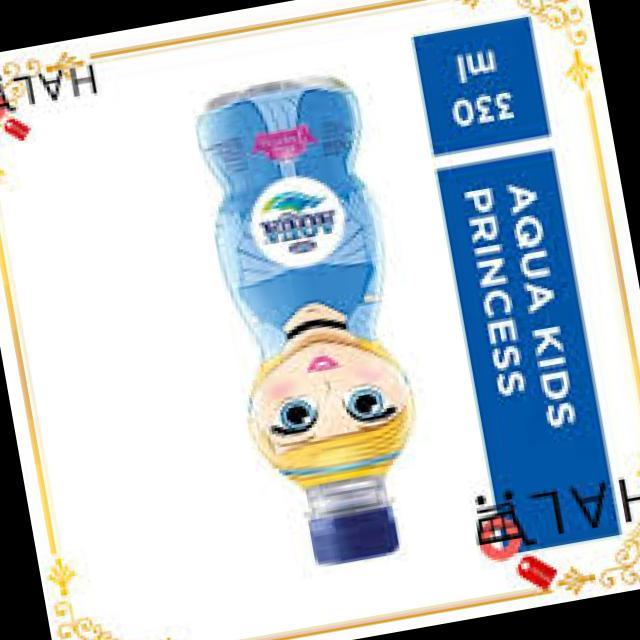good: (154, 62, 460, 592)
